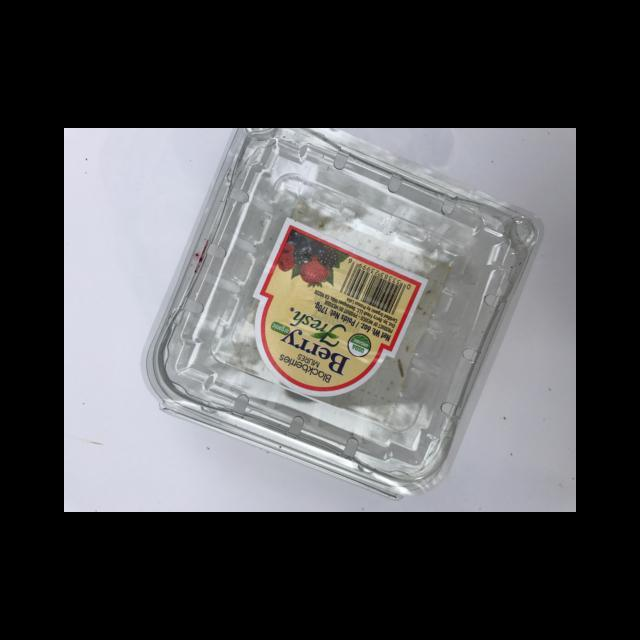plastic: (142, 128, 540, 500)
